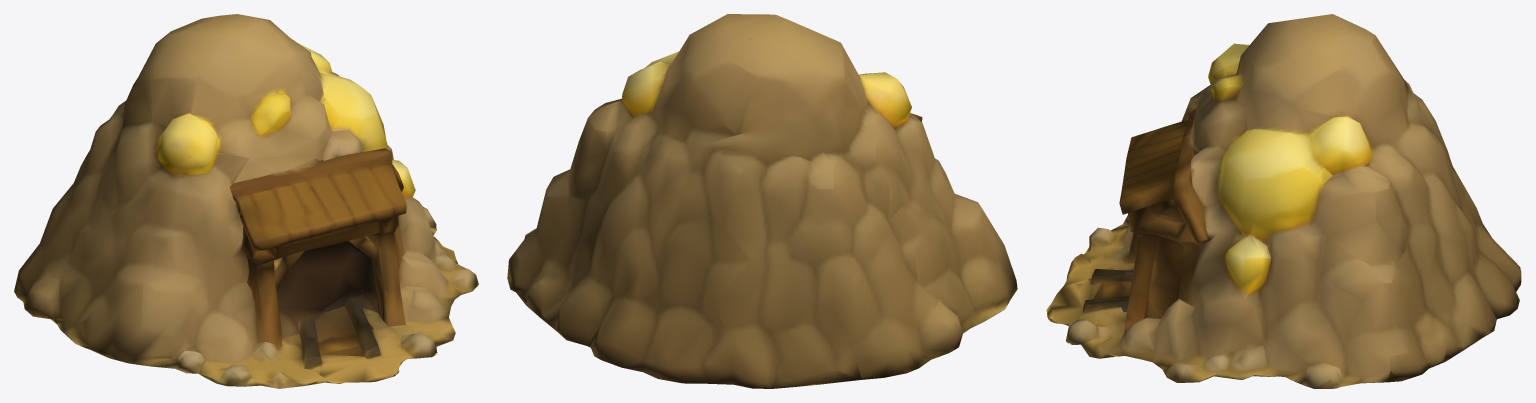
File: goldmine.glb
3 renders of one model, left to right at view 1: azimuth 30°, elevation 25°; view 2: azimuth 150°, elevation 25°; view 3: azimuth 270°, elevation 25°, orthographic. The views are drawn at different scales.
Parts seen in each view (by area): view 1: tmp4q_lbak8.ply; view 2: tmp4q_lbak8.ply; view 3: tmp4q_lbak8.ply.
Boxes of the visible parts, x1,y1,x2,y2 form: tmp4q_lbak8.ply: (14, 14, 478, 388); tmp4q_lbak8.ply: (507, 14, 1017, 388); tmp4q_lbak8.ply: (1046, 14, 1521, 388).
Size of the model in its own units: 1.95 by 1.24 by 1.95.
1 material, 1 textured.
